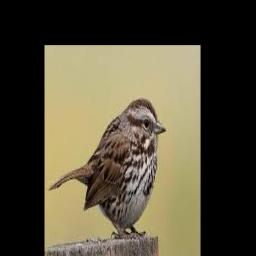Sparrow: (49, 98, 166, 240)
